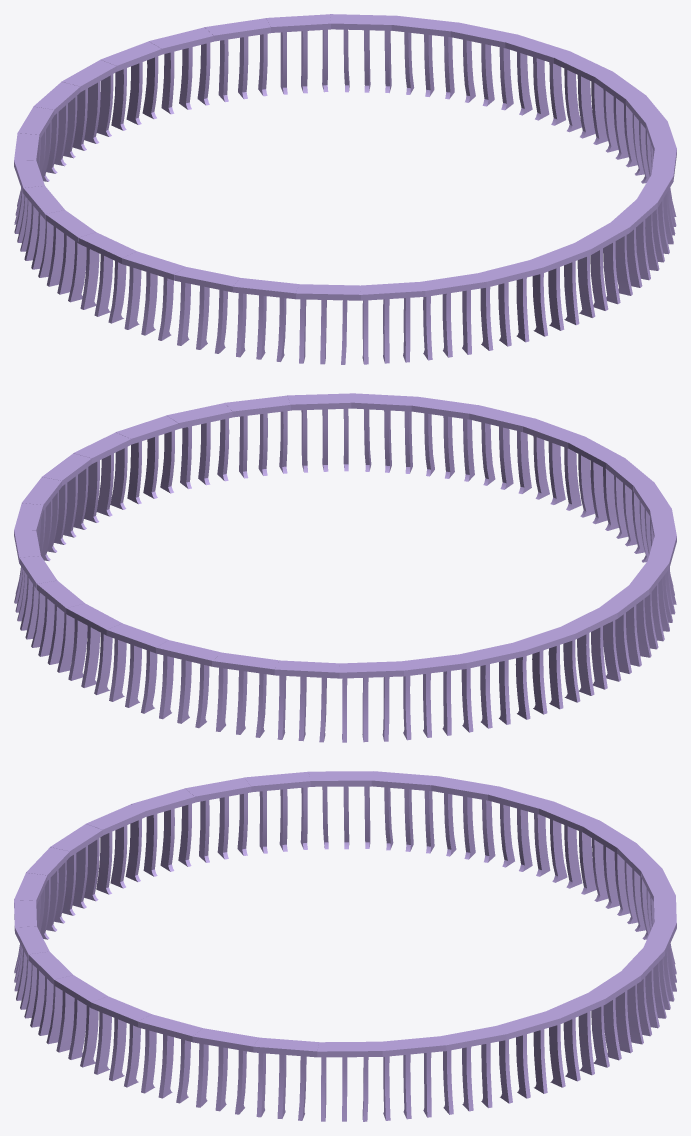
Rendered from Railing.fbx.
3 renders of one model, top to bottom at view 1: azimuth 30°, elevation 25°; view 2: azimuth 150°, elevation 25°; view 3: azimuth 270°, elevation 25°, orthographic.
Parts seen in each view (by area): view 1: Cylinder.003; view 2: Cylinder.003; view 3: Cylinder.003.
Boxes of the visible parts, <box> form: Cylinder.003: <box>14,14,676,364</box>; Cylinder.003: <box>14,393,676,742</box>; Cylinder.003: <box>14,771,676,1121</box>.
Bounding box in the file's own units: 595 × 70.72 × 595.
